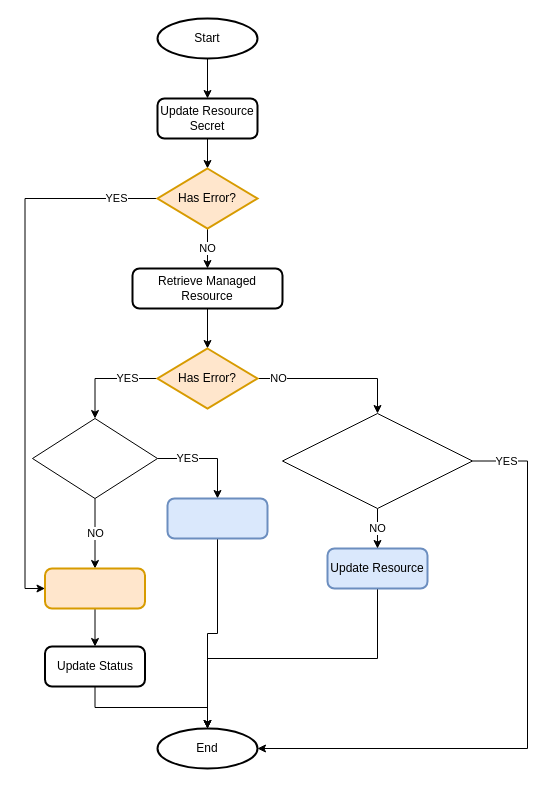
Some shapes in this 553 by 786 pixel diagram are drawn without their labels. Each missing label, with the centre of its shape:
"Create Resource" belongs at (217,518).
"Does Resource Have Pending Operation?" belongs at (377,460).
"Is Resource Not Found?" belongs at (95,458).
"Status: Fail" belongs at (95,588).
